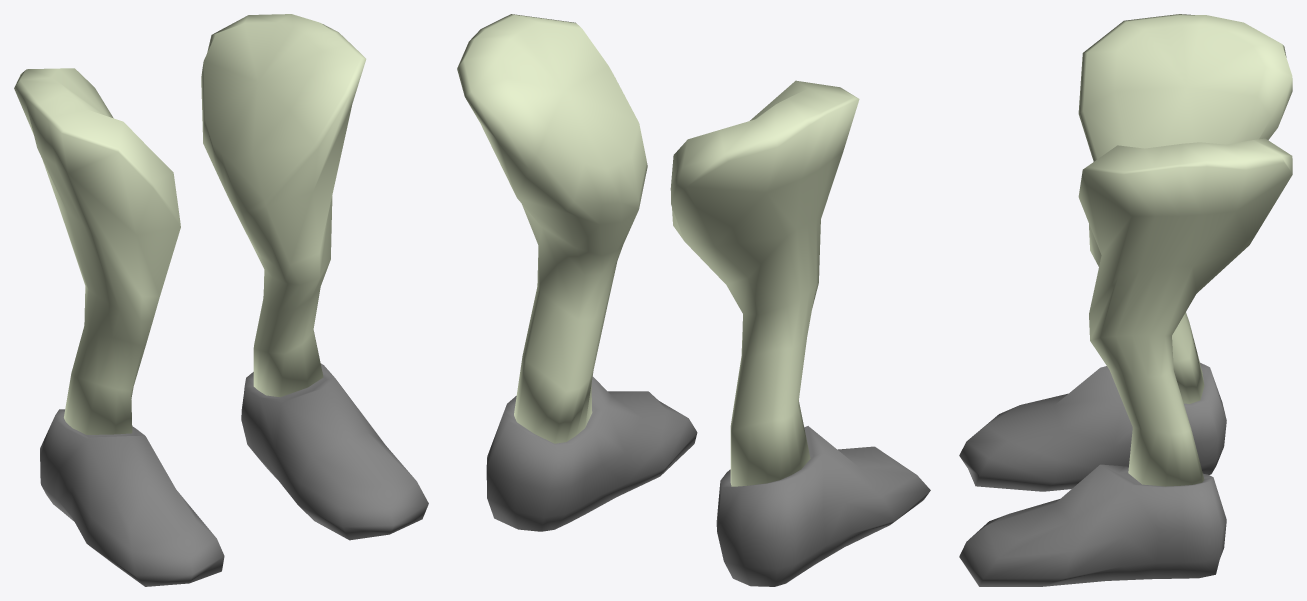
Rendered from smallLegs.fbx.
3 views of the same model, side by side, from view 1: azimuth 30°, elevation 25°; view 2: azimuth 150°, elevation 25°; view 3: azimuth 270°, elevation 25° (orthographic). The views are drawn at different scales.
Visible parts, largest first — view 1: smallLegSX, smallLegDX, shoeDX, shoeSX; view 2: smallLegSX, smallLegDX, shoeDX, shoeSX; view 3: smallLegSX, smallLegDX, shoeSX, shoeDX.
Part boxes in pixels (x1=…): smallLegSX: x1=201, y1=14, x2=366, y2=397; smallLegDX: x1=14, y1=68, x2=180, y2=434; shoeDX: x1=40, y1=409, x2=224, y2=586; shoeSX: x1=241, y1=363, x2=428, y2=540; smallLegSX: x1=457, y1=14, x2=647, y2=443; smallLegDX: x1=670, y1=80, x2=859, y2=486; shoeDX: x1=716, y1=426, x2=930, y2=586; shoeSX: x1=486, y1=376, x2=697, y2=531; smallLegSX: x1=1078, y1=138, x2=1292, y2=486; smallLegDX: x1=1078, y1=14, x2=1292, y2=403; shoeSX: x1=959, y1=464, x2=1226, y2=586; shoeDX: x1=959, y1=362, x2=1226, y2=491.
Bounding box in the file's own units: 54.99 × 72.32 × 49.45.
